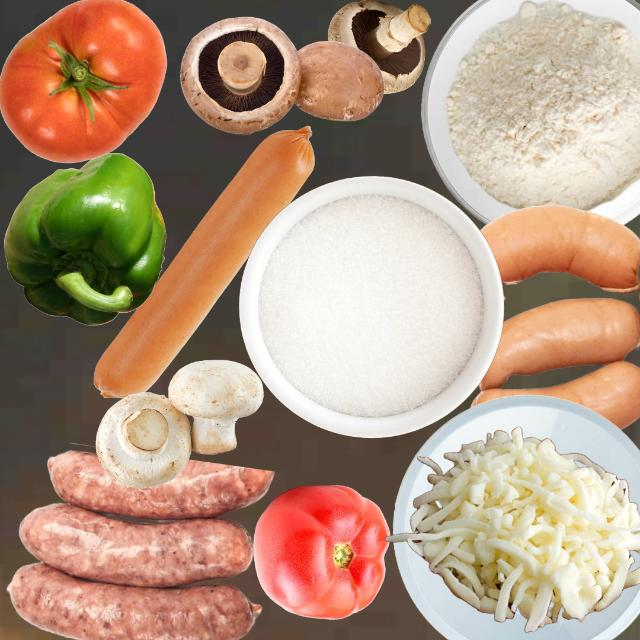Flour: (445, 0, 639, 209)
Sugar: (256, 192, 483, 417)
